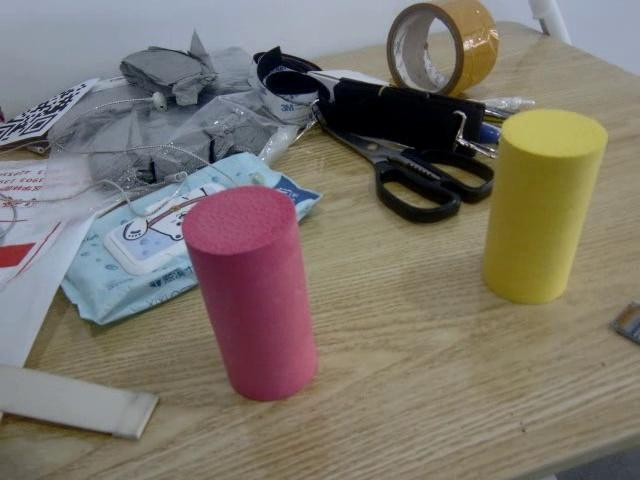red_cylinder: (178, 183, 324, 408)
yellow_cylinder: (478, 106, 604, 312)
